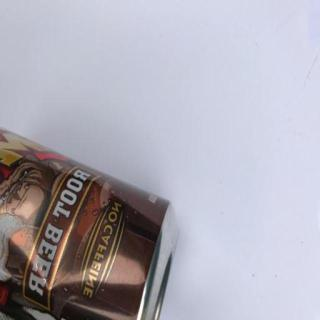Anorganik: (0, 125, 180, 320)
